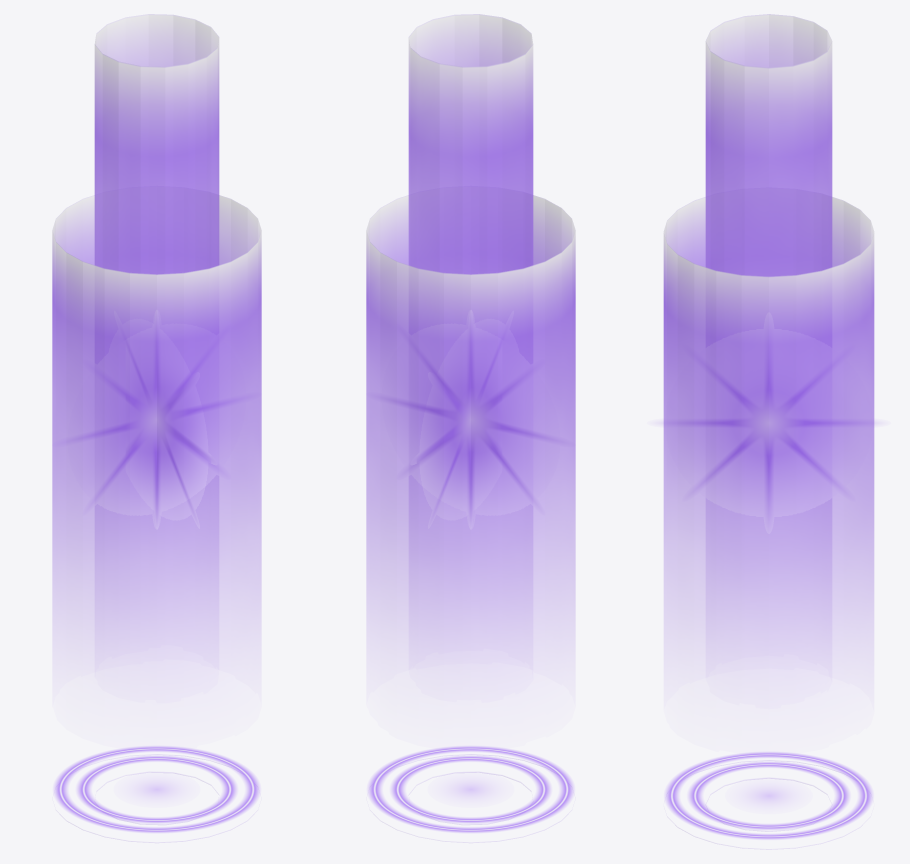
Rendered from fx_up_bolt.glb.
The picture shows the model from 3 angles, left to right: view 1: azimuth 30°, elevation 25°; view 2: azimuth 150°, elevation 25°; view 3: azimuth 270°, elevation 25°; orthographic projection.
Parts seen in each view (by area): view 1: fx_up_pillar, fx_up_star, fx_up_ring; view 2: fx_up_pillar, fx_up_star, fx_up_ring; view 3: fx_up_pillar, fx_up_star, fx_up_ring.
Boxes of the visible parts, <box> form: fx_up_pillar: <box>52,14,261,842</box>; fx_up_star: <box>64,347,239,517</box>; fx_up_ring: <box>54,746,259,832</box>; fx_up_pillar: <box>366,14,575,842</box>; fx_up_star: <box>387,342,563,516</box>; fx_up_ring: <box>368,746,573,832</box>; fx_up_pillar: <box>663,14,874,849</box>; fx_up_star: <box>661,352,876,510</box>; fx_up_ring: <box>665,752,872,839</box>.
Bounding box in the file's own units: 1.2 × 4 × 1.2.
Materials: 3 (3 with a texture image).
